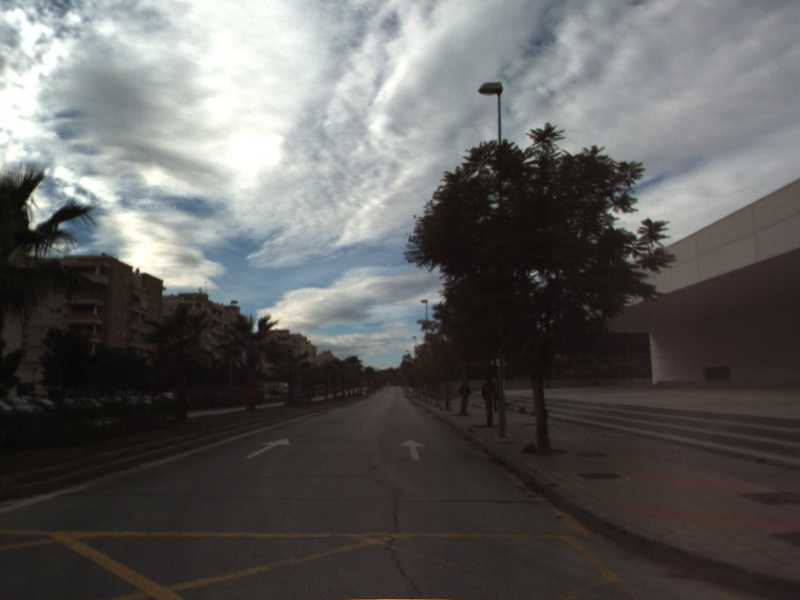STRAIGHT: (242, 436, 292, 460), (396, 437, 428, 462)
